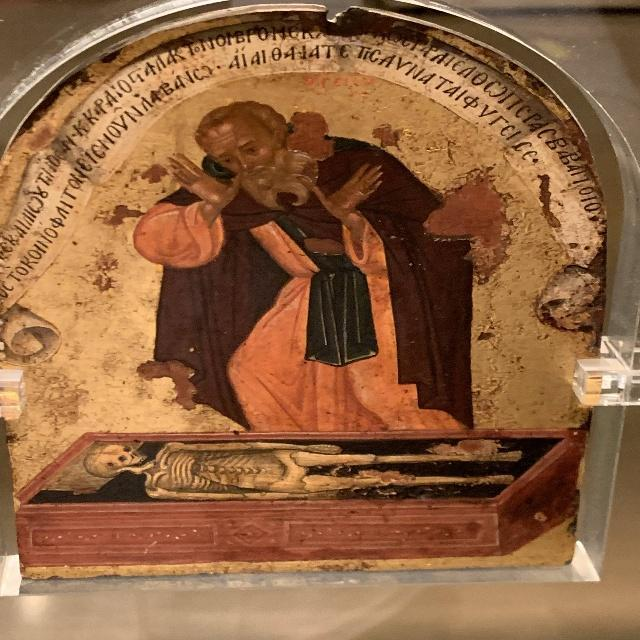saint: (145, 96, 522, 424)
tomb: (17, 428, 594, 564)
